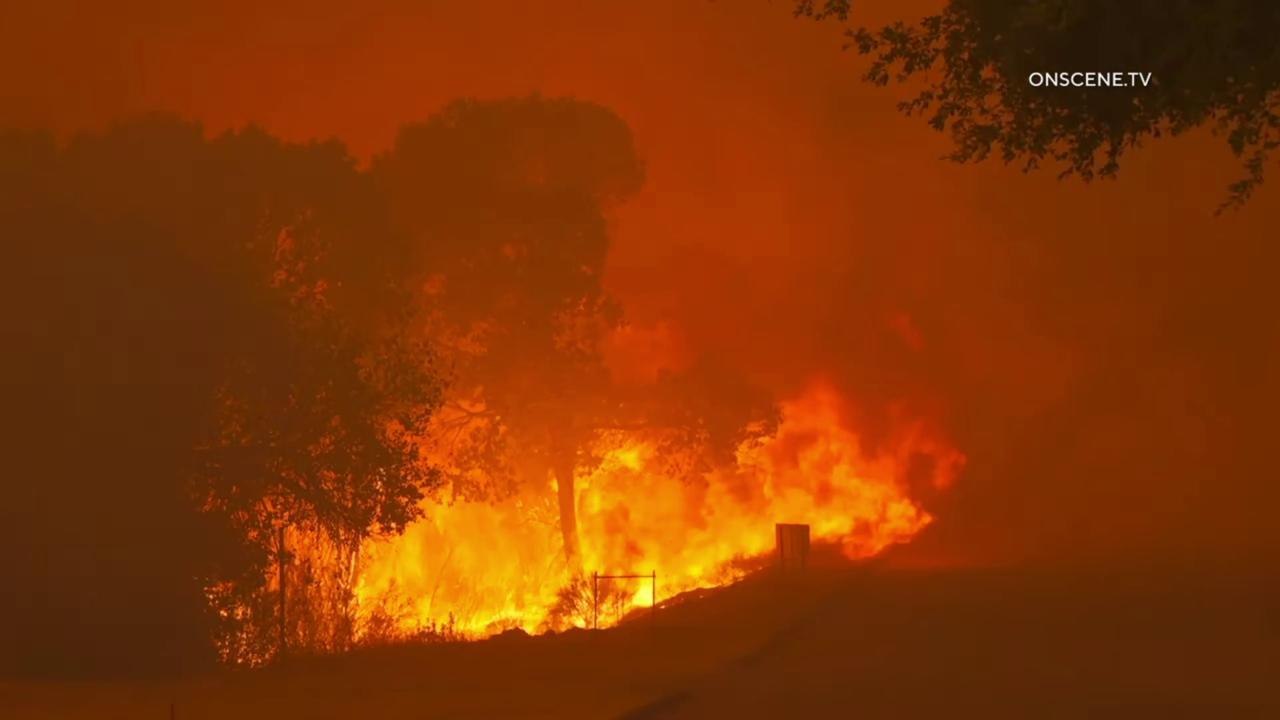fire: (216, 365, 982, 669)
smoke: (0, 0, 1280, 720)
